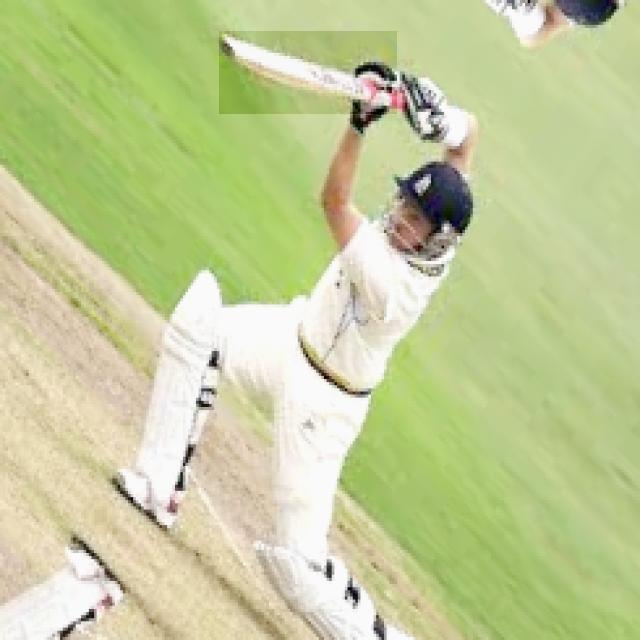bat: (214, 31, 401, 113)
toe: (212, 28, 242, 65)
